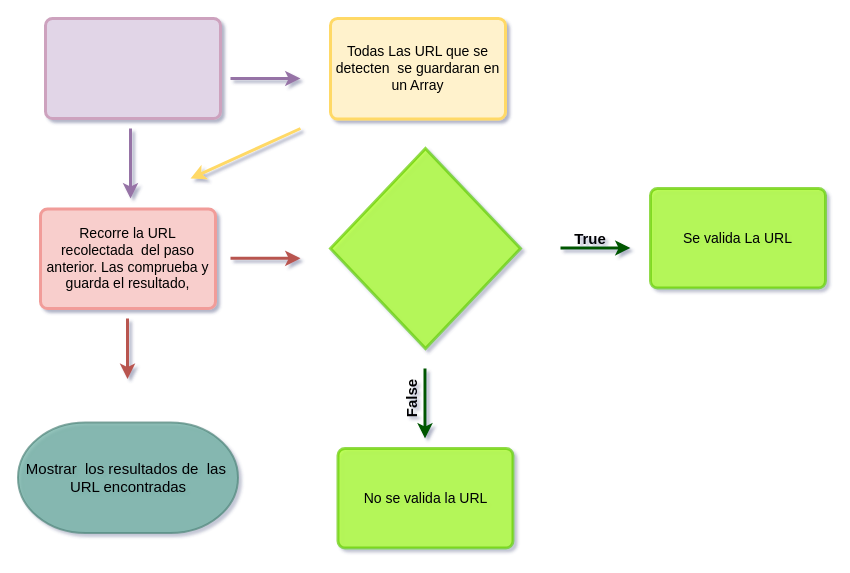
Image size: 850x573. Some labels were removed from this diagram. The centre of each missing label's shape, as x and y in pixels:
"Crear función que lea el archivo y detecte las URL" belongs at (x=133, y=68).
"Si Validate" belongs at (x=425, y=248).
